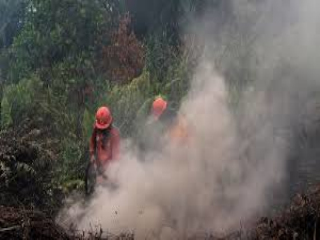smoke: (55, 144, 254, 239), (177, 54, 242, 219)
